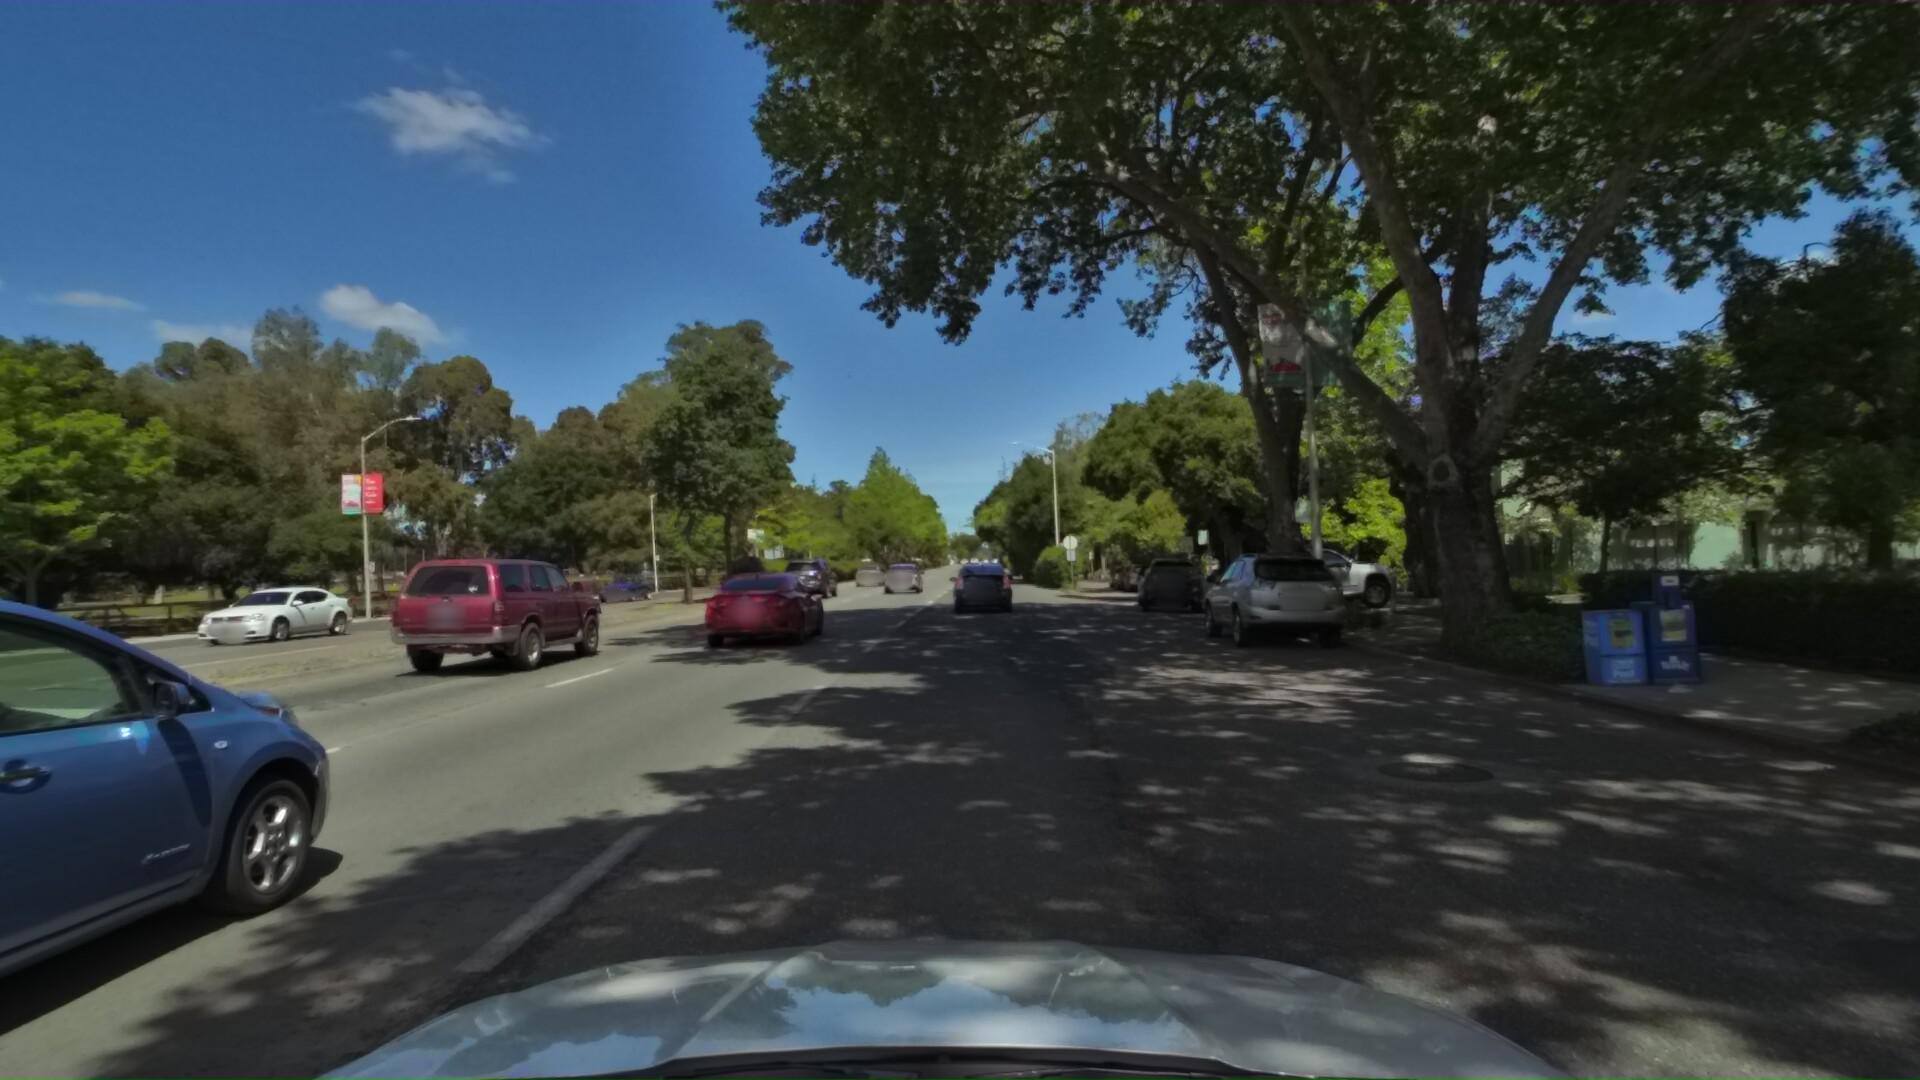car: (0, 575, 359, 1080), (381, 553, 615, 680), (1189, 541, 1364, 657), (1196, 533, 1420, 621), (141, 576, 340, 650), (692, 560, 825, 649), (1137, 550, 1205, 615), (942, 558, 1017, 615), (781, 553, 843, 599), (1131, 562, 1189, 611), (584, 570, 649, 603), (877, 558, 924, 593), (1118, 560, 1160, 593), (1112, 559, 1149, 591), (851, 559, 885, 585), (1104, 563, 1135, 588)
